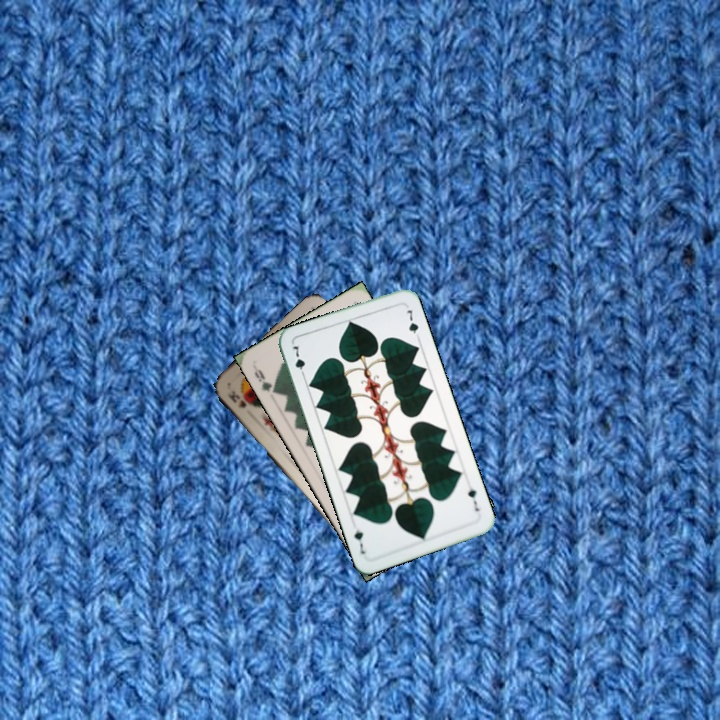G7: (288, 341, 308, 380), (464, 484, 482, 514)
G9: (249, 362, 280, 396)
SK: (224, 386, 249, 411)
